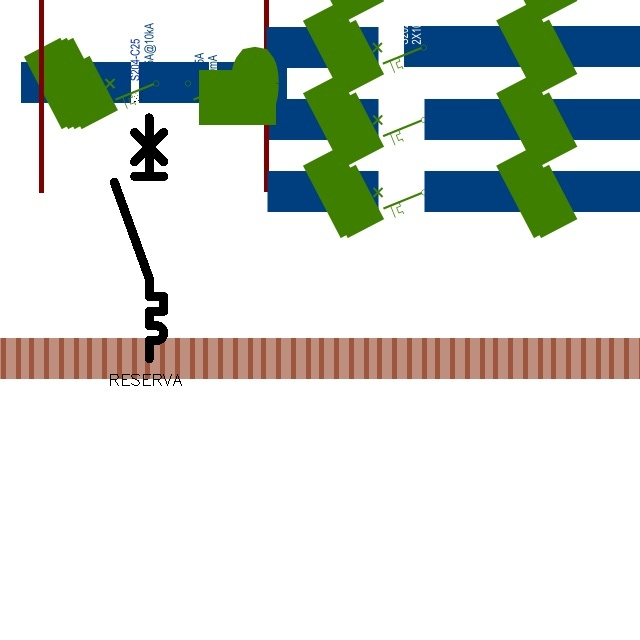interruptor_termomagnetico: (108, 111, 170, 364)
